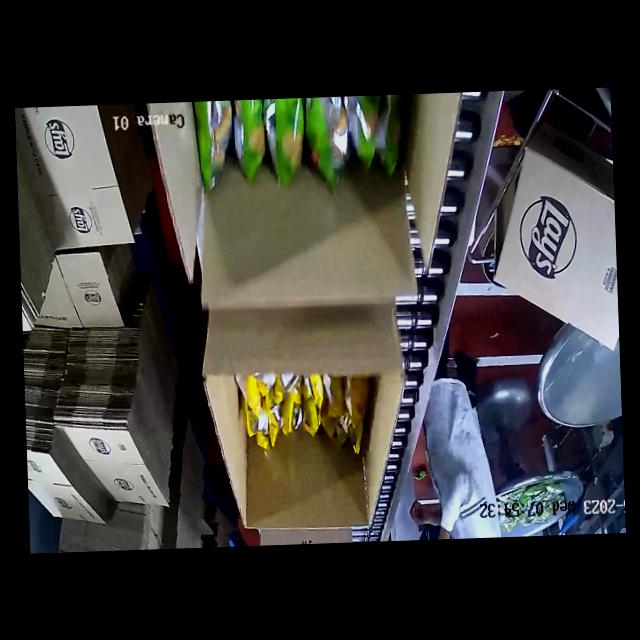salted: (235, 368, 377, 460)
yogurt: (194, 94, 409, 216)
